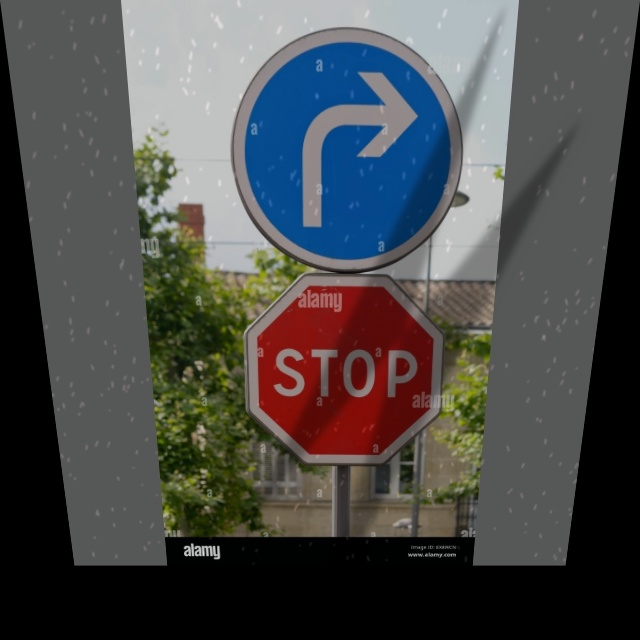Compulsory_Turn_Right_Ahead: (227, 31, 474, 268)
